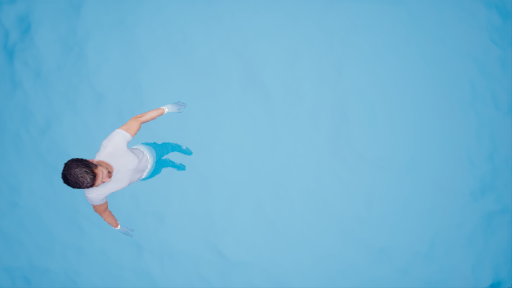person: (62, 96, 189, 227)
